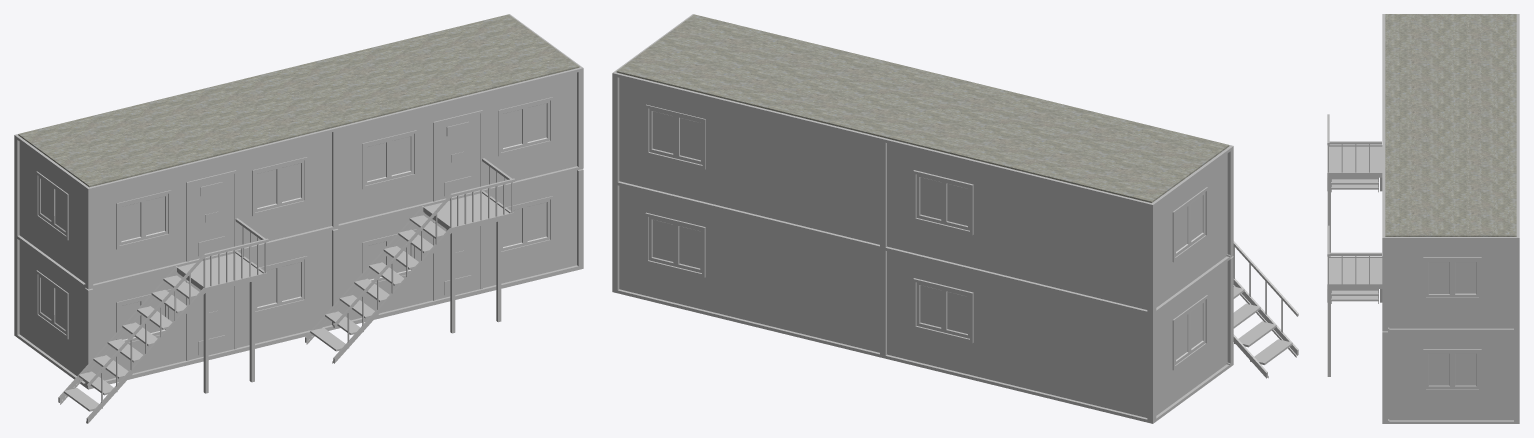
Rendered from ContainerHouse.fbx.
The picture shows the model from 3 angles, left to right: view 1: azimuth 30°, elevation 25°; view 2: azimuth 150°, elevation 25°; view 3: azimuth 270°, elevation 25°; orthographic projection. The views are drawn at different scales.
Parts seen in each view (by area): view 1: ContainerHouseBody, Door4, Door3, Door2, Door1, Window2Right, Window6Right, Window5Right, Window6Left, Window5Left, Window8Left, Window4Right (+11 smaller); view 2: ContainerHouseBody, Window14Left, Window15Left, Window17Left, Window11Left, Window14Right, Window17Right, Window11Right, Window15Right, Window12Right, Window13Right, Window12Left (+1 smaller); view 3: ContainerHouseBody, Window10Right, Window10Left, Window9Right, Window9Left, StaircasePart4.
Part boxes in pixels (x1,y1,x2,y2): ContainerHouseBody: (14,14,583,423); Door4: (435,113,480,200); Door3: (189,174,233,260); Door2: (435,223,480,299); Door1: (189,283,233,359); Window2Right: (279,259,304,305); Window6Right: (279,160,304,206); Window5Right: (143,194,168,239); Window6Left: (255,166,279,212); Window5Left: (119,200,143,245); Window8Left: (501,106,525,152); Window4Right: (525,199,549,245); ContainerHouseBody: (612,14,1298,423); Window14Left: (649,108,676,158); Window15Left: (648,217,675,266); Window17Left: (916,282,943,332); Window11Left: (916,174,943,224); Window14Right: (676,115,702,164); Window17Right: (943,289,969,338); Window11Right: (943,181,969,230); Window15Right: (676,223,701,272); Window12Right: (1190,300,1205,354); Window13Right: (1190,192,1205,245); Window12Left: (1175,311,1189,364); ContainerHouseBody: (1327,14,1519,423); Window10Right: (1452,260,1478,297); Window10Left: (1426,260,1452,297); Window9Right: (1452,352,1478,388); Window9Left: (1426,352,1452,388); StaircasePart4: (1331,290,1378,295).
Bounding box in the file's own units: 456 × 173 × 156.
